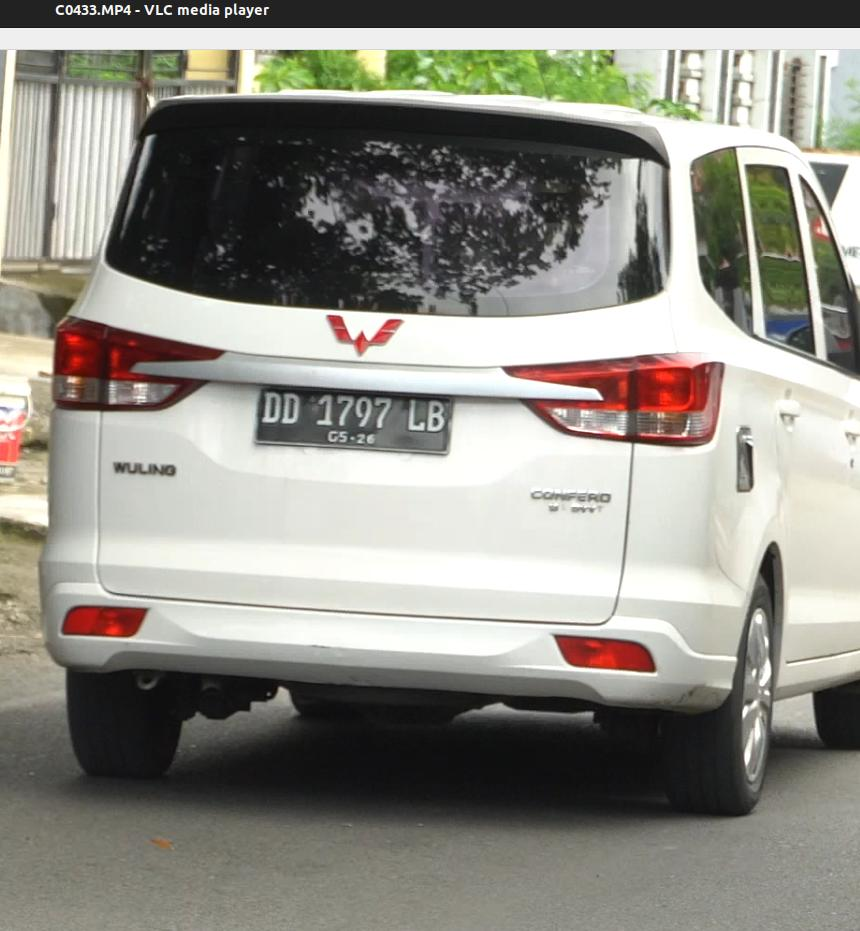number-plate: (242, 382, 467, 467)
